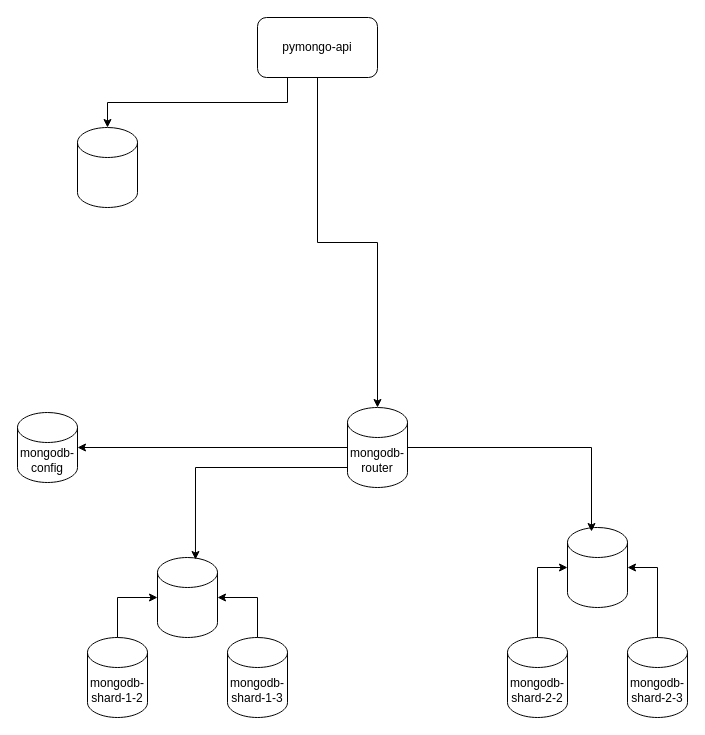
Image size: 705x735. Some labels were removed from this diagram. The centre of each missing label's shape, as x and y in pixels:
"mongodb-shard-1-1" belongs at point (187, 597).
"mongodb-shard-2-1" belongs at point (597, 567).
"redis-1" belongs at point (107, 167).
